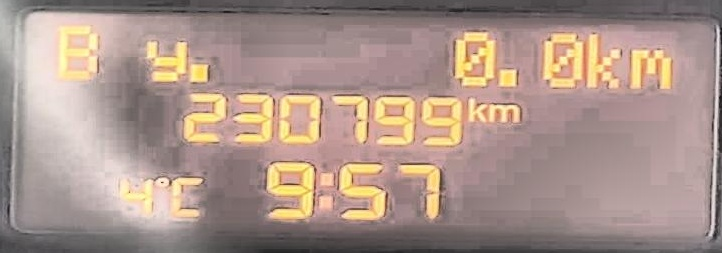-: (187, 61, 209, 82), (495, 67, 518, 87)
0: (450, 28, 497, 87), (539, 29, 584, 88), (277, 93, 322, 144)
2: (181, 91, 227, 141)
3: (230, 91, 273, 143)
4: (115, 176, 154, 215)
5: (336, 162, 387, 219)
7: (395, 162, 442, 218), (329, 93, 369, 143)
9: (265, 160, 313, 218), (371, 95, 416, 144), (419, 95, 461, 146)
X: (53, 23, 98, 80), (584, 32, 622, 89), (627, 46, 674, 90), (145, 38, 187, 81), (168, 176, 202, 216), (487, 101, 522, 124), (317, 170, 335, 209), (464, 97, 487, 122)
